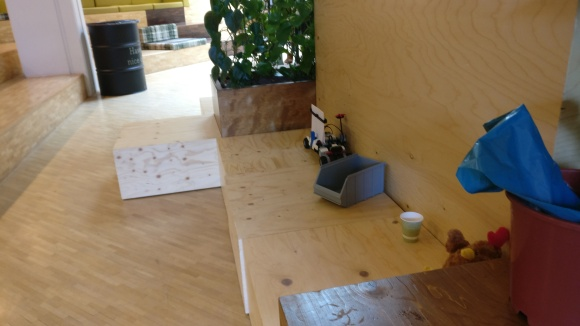car: (302, 102, 348, 163)
cup: (399, 210, 424, 242)
tray: (313, 151, 387, 208)
